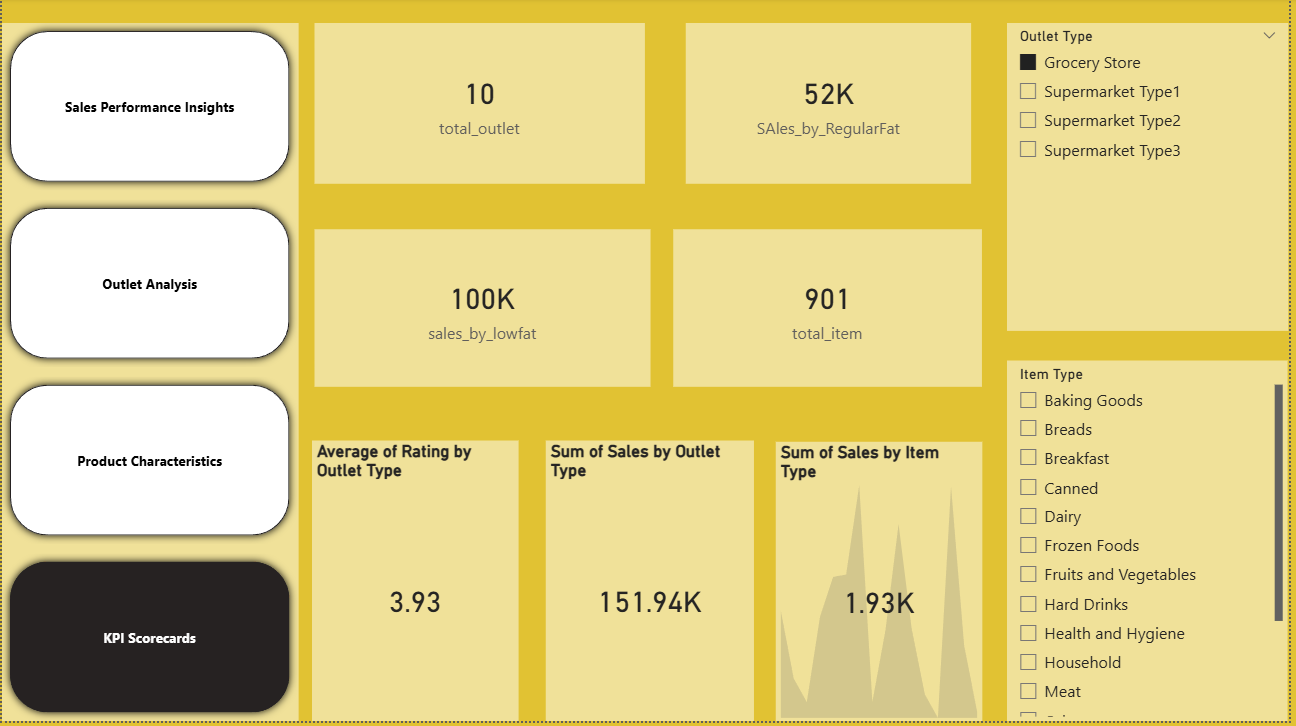

Layout of this report page (visuals, bound fields, positions):
{"tool":"powerbi","page":{"name":"KPI Scorecards","canvas":[1280,720],"ordinal":3},"visuals":[{"type":"kpi","fields":{"TrendLine":["Blinkit Data.Item Type"],"Indicator":["Sum(Blinkit Data.Sales)"]},"box":[770,441.4,205.7,280],"z":0},{"type":"kpi","fields":{"Indicator":["Sum(Blinkit Data.Sales)"],"TrendLine":["Blinkit Data.Outlet Type"]},"box":[541.4,440,207.1,280],"z":1000},{"type":"slicer","fields":{"Values":["Blinkit Data.Item Type"]},"box":[1000.2,361.3,279.4,359.5],"z":2000},{"type":"slicer","fields":{"Values":["Blinkit Data.Outlet Type"]},"box":[1000.1,24.9,279.9,306],"z":3000},{"type":"kpi","fields":{"Indicator":["Avg(Blinkit Data.Rating)"],"TrendLine":["Blinkit Data.Outlet Type"]},"box":[308.6,440,205.7,280],"z":4000},{"type":"card","fields":{"Values":["Blinkit Data.SAles_by_RegularFat"]},"box":[680,24.3,284.3,160],"z":5000},{"type":"card","fields":{"Values":["Blinkit Data.sales_by_lowfat"]},"box":[311.4,230,334.3,157.1],"z":6000},{"type":"card","fields":{"Values":["Blinkit Data.total_outlet"]},"box":[311.4,24.3,328.6,160],"z":7000},{"type":"card","fields":{"Values":["Blinkit Data.total_item"]},"box":[668.6,230,307.1,157.1],"z":8000},{"type":"pageNavigator","box":[0,24.9,294.8,695.4],"z":9000}]}

Visuals, with their boxes in screenshot pixels (x1, y1, x2, y2), scaled from the page's 1280x720 canvas onto the 1296x726 screenshot:
kpi - Blinkit Data.Item Type x Sum(Blinkit Data.Sales): (left=780, top=445, right=988, bottom=725)
kpi - Sum(Blinkit Data.Sales) x Blinkit Data.Outlet Type: (left=548, top=444, right=758, bottom=725)
slicer - Blinkit Data.Item Type: (left=1013, top=364, right=1295, bottom=725)
slicer - Blinkit Data.Outlet Type: (left=1013, top=25, right=1295, bottom=334)
kpi - Avg(Blinkit Data.Rating) x Blinkit Data.Outlet Type: (left=312, top=444, right=521, bottom=725)
card - Blinkit Data.SAles_by_RegularFat: (left=688, top=25, right=976, bottom=186)
card - Blinkit Data.sales_by_lowfat: (left=315, top=232, right=654, bottom=390)
card - Blinkit Data.total_outlet: (left=315, top=25, right=648, bottom=186)
card - Blinkit Data.total_item: (left=677, top=232, right=988, bottom=390)
pageNavigator: (left=0, top=25, right=298, bottom=725)
